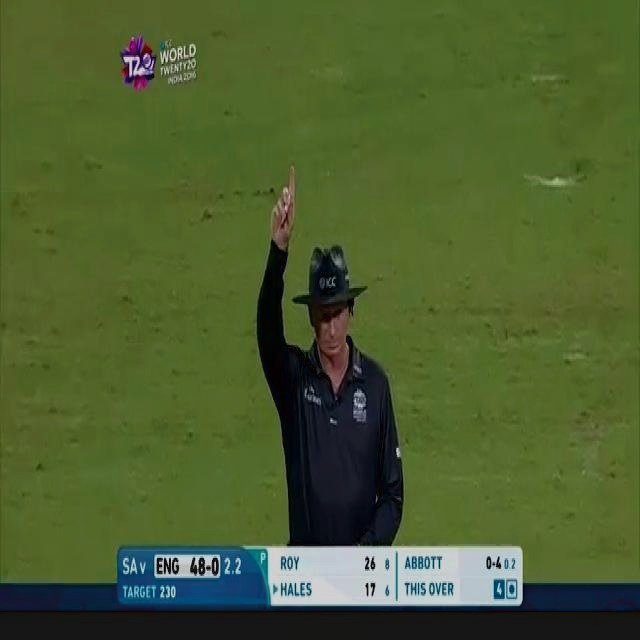Out: (253, 155, 411, 547)
